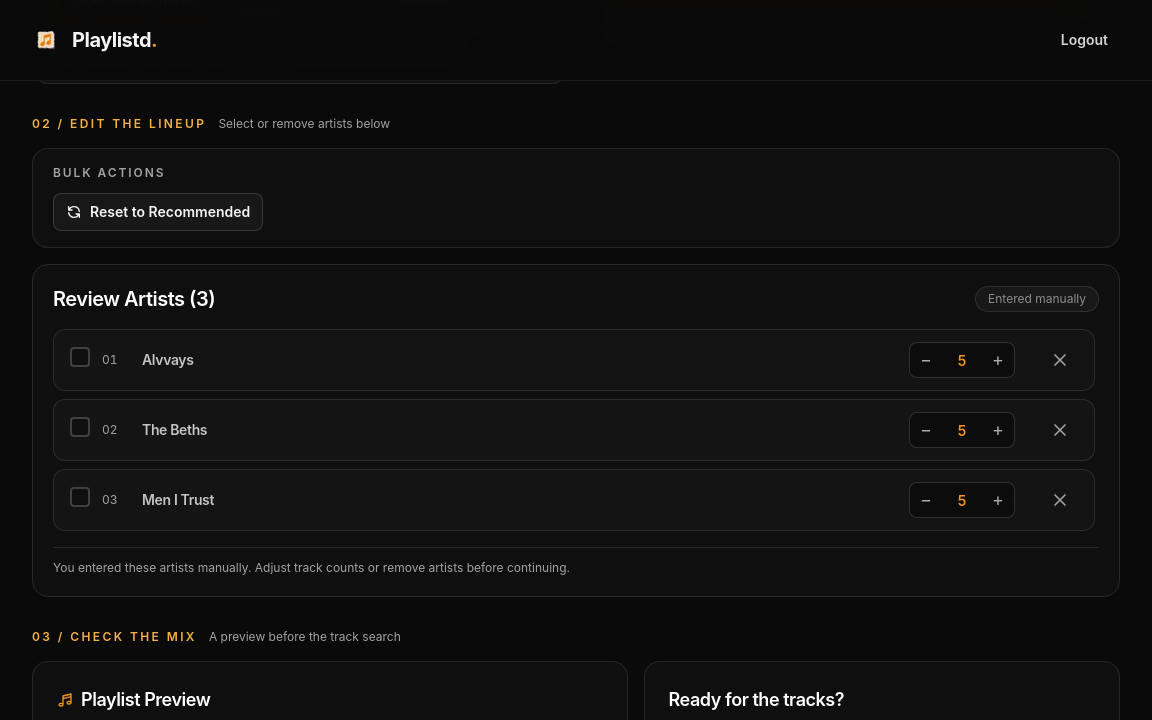
review-artists with a manually entered (text) lineup › increasing one artist to 10 leaves the others at 5 (summary follows)
The image size is (1152, 720).
(page scrolled)
Check: the heading "Review Artists (3)" is shown, box [53, 285, 215, 313]
Replace the text in the number field named "Track count for Alvvays" with "10". click: (962, 360)
box: [942, 344, 982, 376]
(page scrolled)
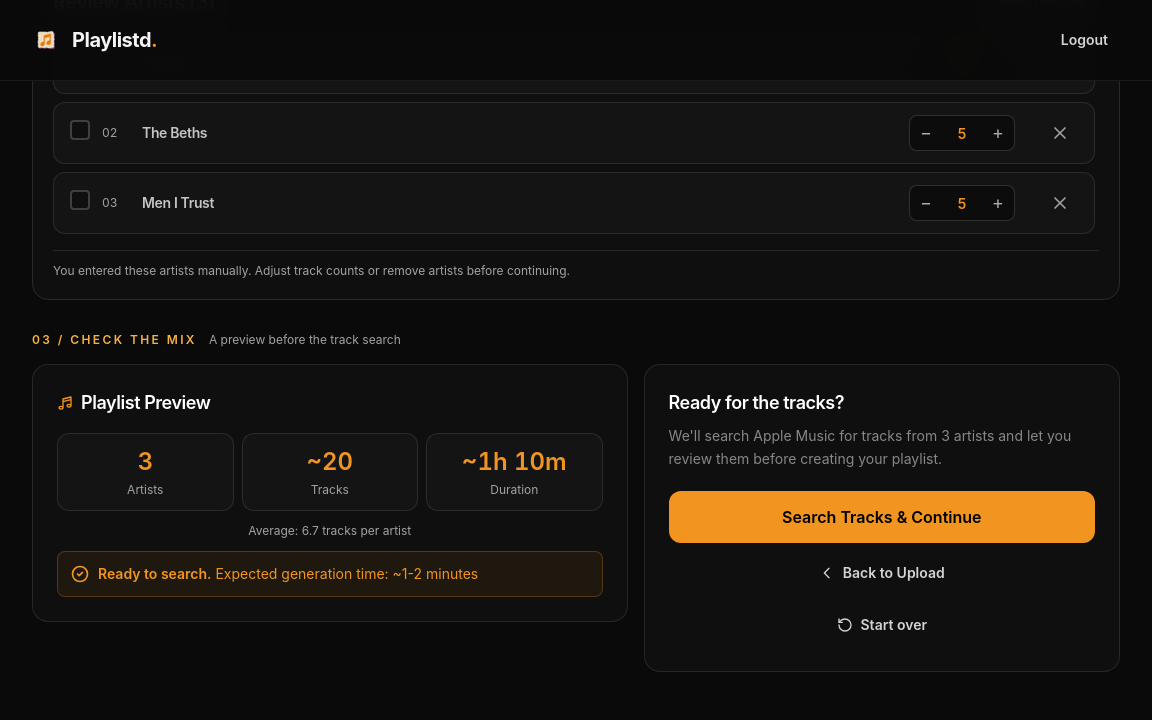
Check: the number field named "Track count for The Beths" holds "5", box [942, 117, 982, 149]
Check: the text "~20" is shown, box [306, 447, 353, 476]
